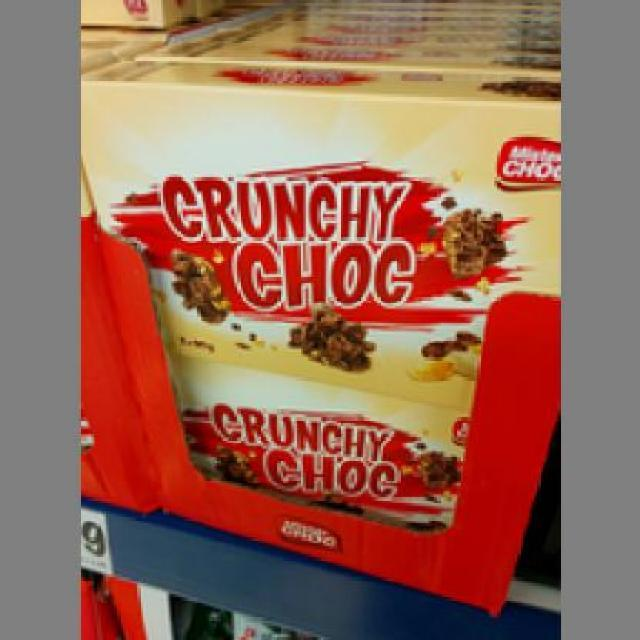Chocolate: (80, 54, 560, 392), (134, 346, 474, 534)
